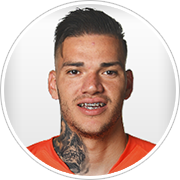smile: (76, 99, 109, 114)
